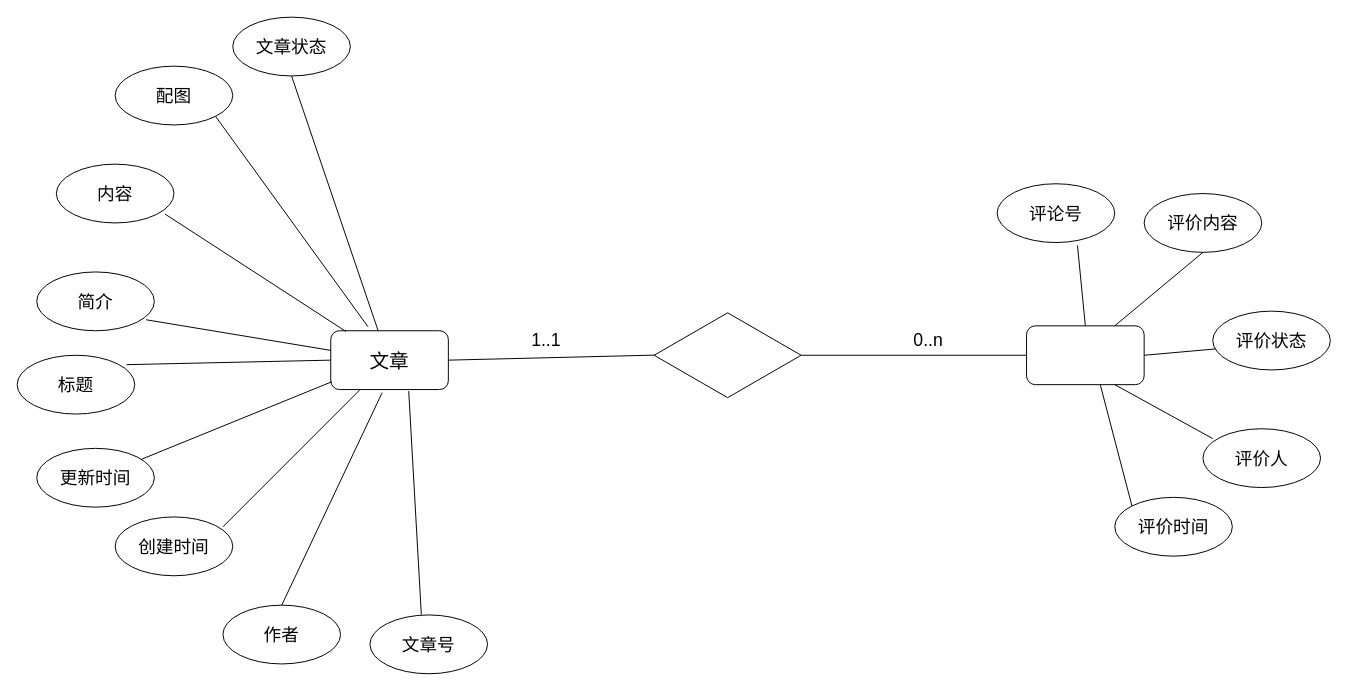
Image size: 1348x691. Some labels were removed from this diagram. Here are the shapes that lost their labels. From the top down, the box of each, then its label:
(653, 310, 801, 399): 评价
(1026, 325, 1144, 385): 评论
